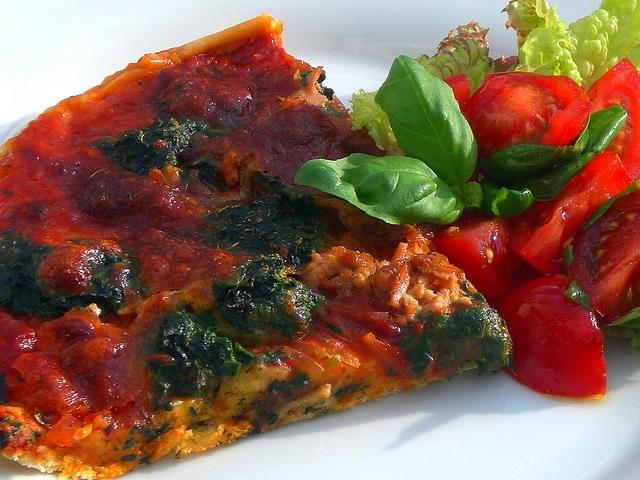lettuce: (500, 0, 640, 92), (414, 19, 490, 80)
tomato: (509, 150, 634, 276), (496, 273, 607, 398), (464, 73, 592, 158), (567, 179, 640, 326), (428, 210, 540, 301), (586, 58, 639, 180), (444, 73, 471, 116)
